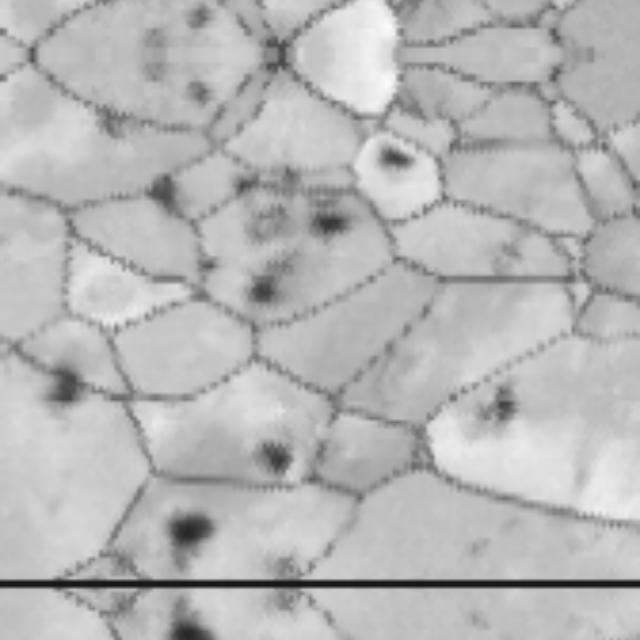good_void: (240, 248, 301, 312), (244, 204, 293, 248), (168, 516, 221, 549), (249, 437, 296, 473), (483, 240, 531, 274), (266, 548, 310, 583), (266, 587, 310, 622), (40, 373, 88, 404), (314, 213, 352, 242), (489, 383, 515, 425), (168, 621, 221, 640), (275, 167, 302, 199), (152, 178, 174, 214), (381, 149, 416, 169), (233, 179, 257, 207), (198, 257, 220, 278), (96, 117, 117, 137), (193, 87, 209, 102), (193, 9, 209, 24)
